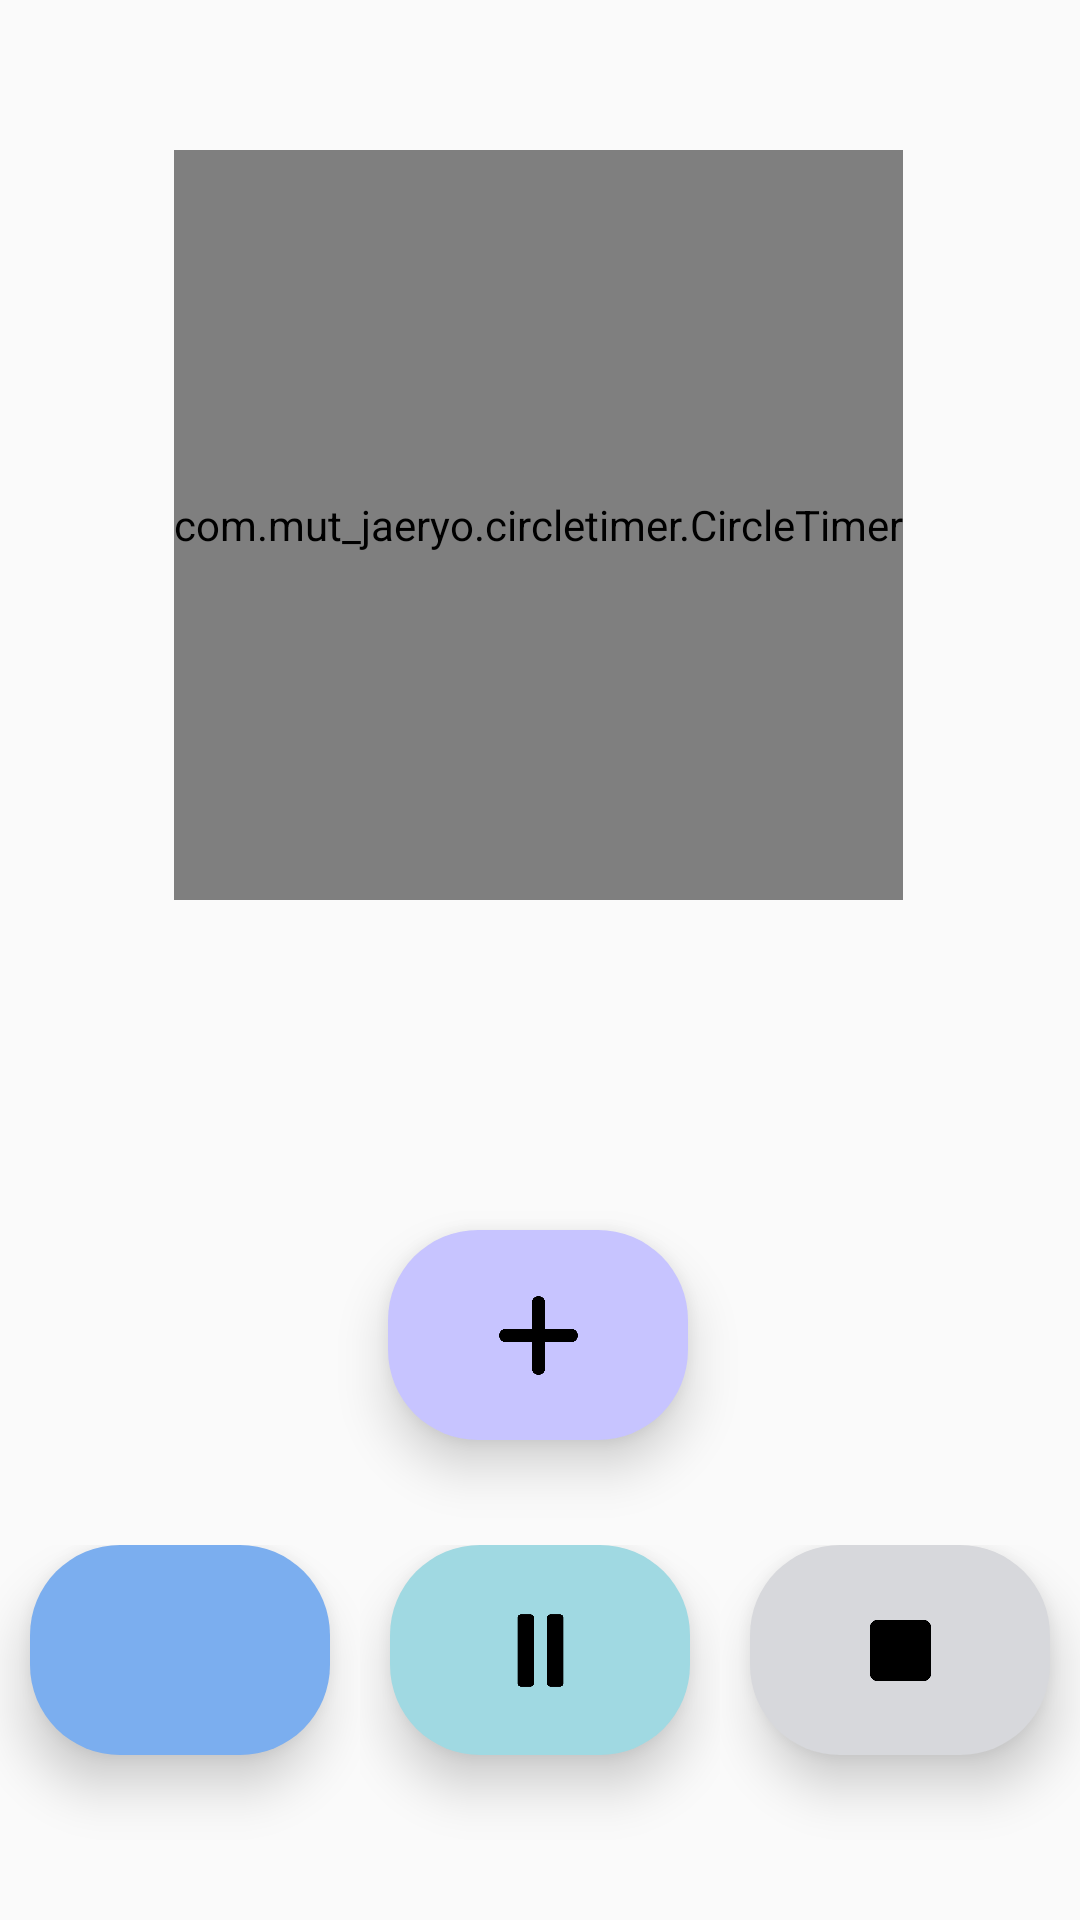

Icon bounding boxes for this 1080 × 1920 phone screenshot, format box(x1, y1, x2, y2):
tpause: box(390, 1545, 690, 1755)
tplus: box(388, 1230, 688, 1440)
tsquare: box(750, 1545, 1050, 1755)
